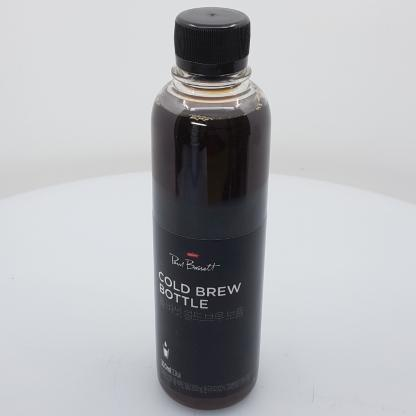--------------300ML: (151, 7, 271, 410)
